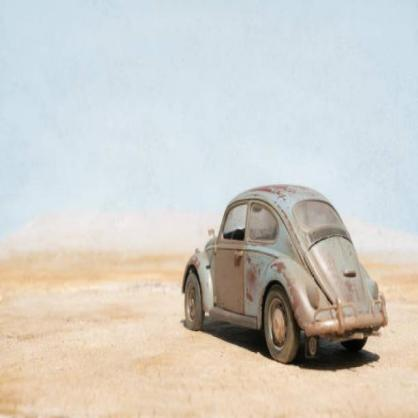car: (183, 183, 391, 366)
